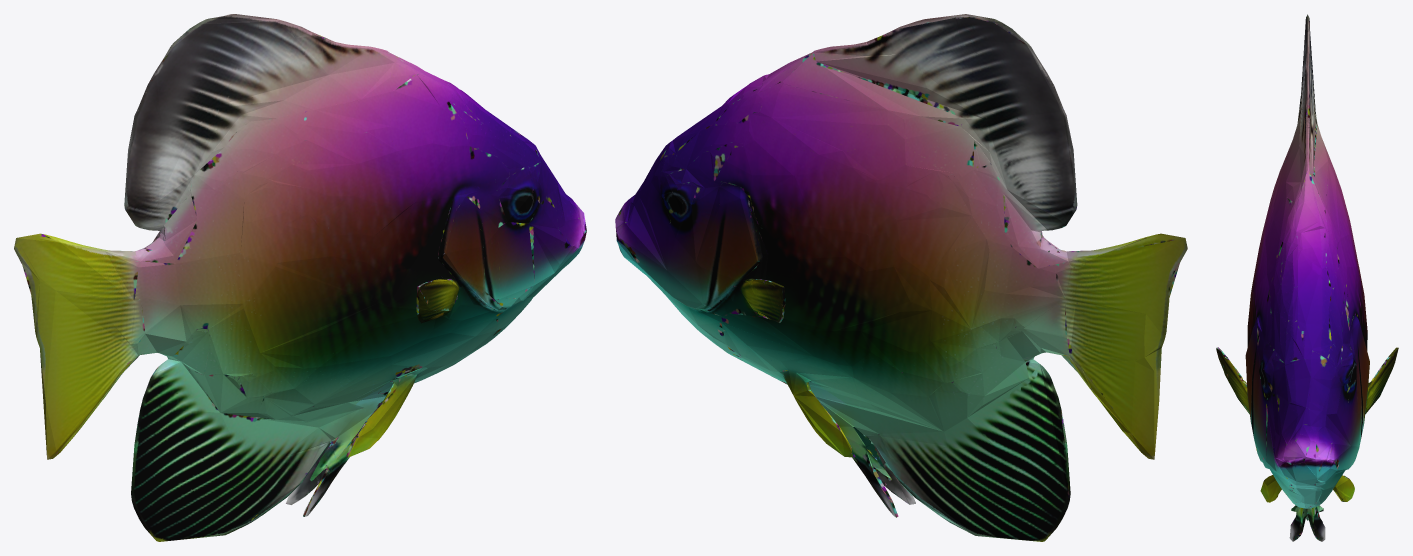
File: fish_0079_smpl23_resized.glb
3 renders of one model, left to right at view 1: azimuth 30°, elevation 25°; view 2: azimuth 150°, elevation 25°; view 3: azimuth 270°, elevation 25°, orthographic. The views are drawn at different scales.
Parts seen in each view (by area): view 1: world; view 2: world; view 3: world.
Boxes of the visible parts, x1,y1,x2,y2 form: world: (14,14,586,541); world: (615,14,1187,541); world: (1216,14,1398,541).
Size of the model in its own units: 1.99 by 1.74 by 0.5903.
Materials: 1 (1 with a texture image).
